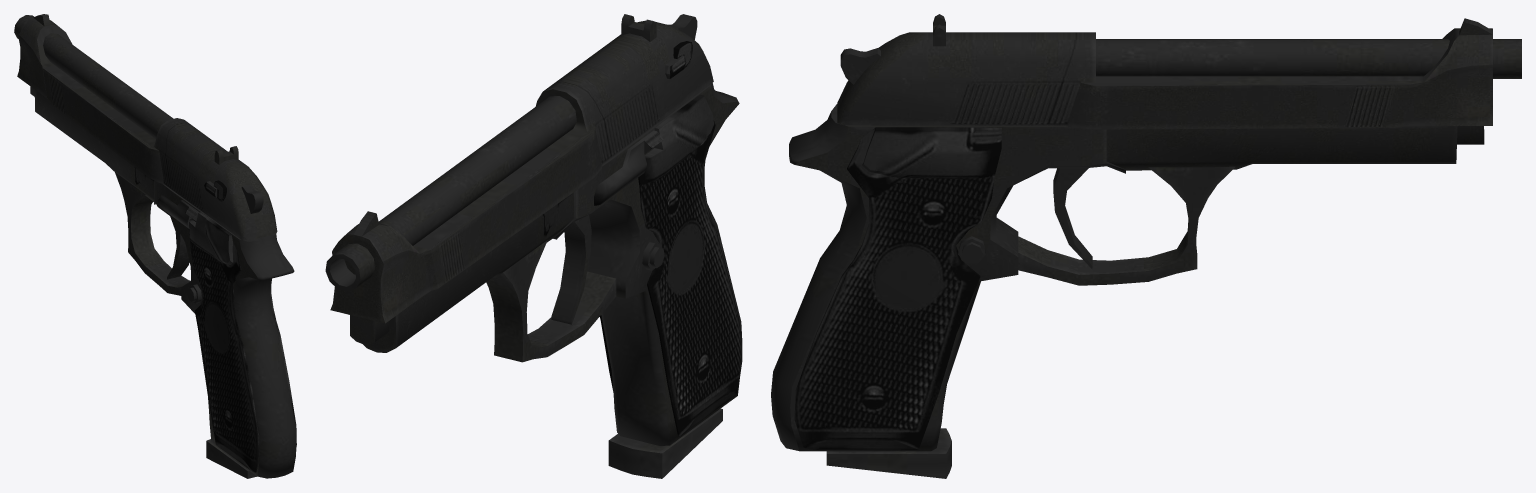
3 renders of one model, left to right at view 1: azimuth 30°, elevation 25°; view 2: azimuth 150°, elevation 25°; view 3: azimuth 270°, elevation 25°, orthographic. The views are drawn at different scales.
Parts seen in each view (by area): view 1: m9; view 2: m9; view 3: m9.
Part boxes in pixels (x1,y1,x2,y2): m9: (14, 14, 296, 478); m9: (325, 14, 742, 478); m9: (771, 14, 1521, 478).
Bounding box in the file's own units: 0.0297 × 0.1703 × 0.26.
2 materials, 2 textured.
